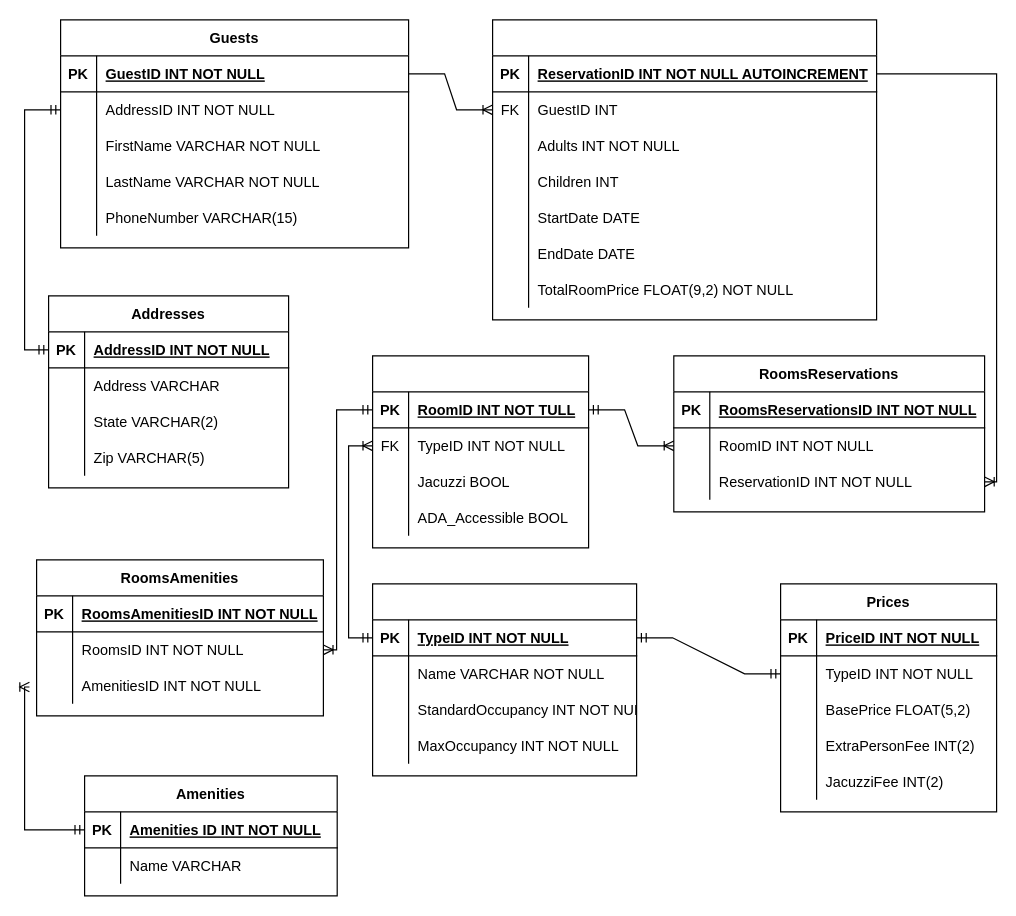
Image size: 1016x916. Some labels were removed from this diagram. Each missing label, with the box of its shape:
Reservations: (491, 19, 877, 320)
Rooms: (371, 355, 589, 548)
RoomTypes: (371, 583, 637, 776)
